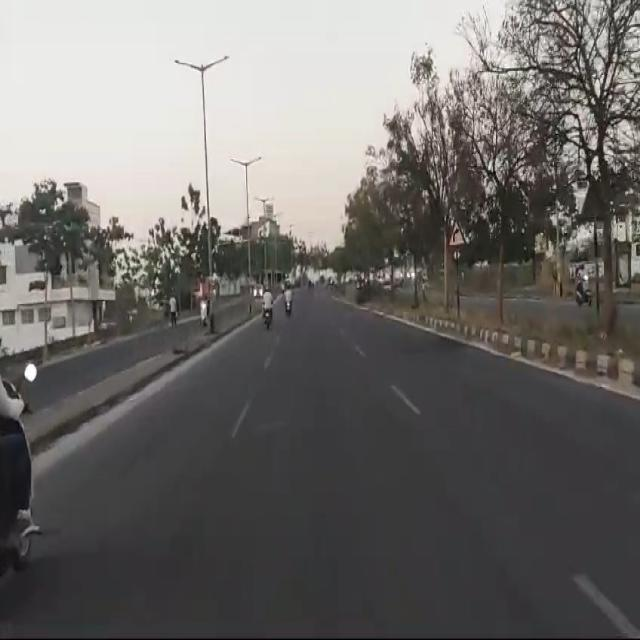bien_cam: (448, 216, 466, 249)
